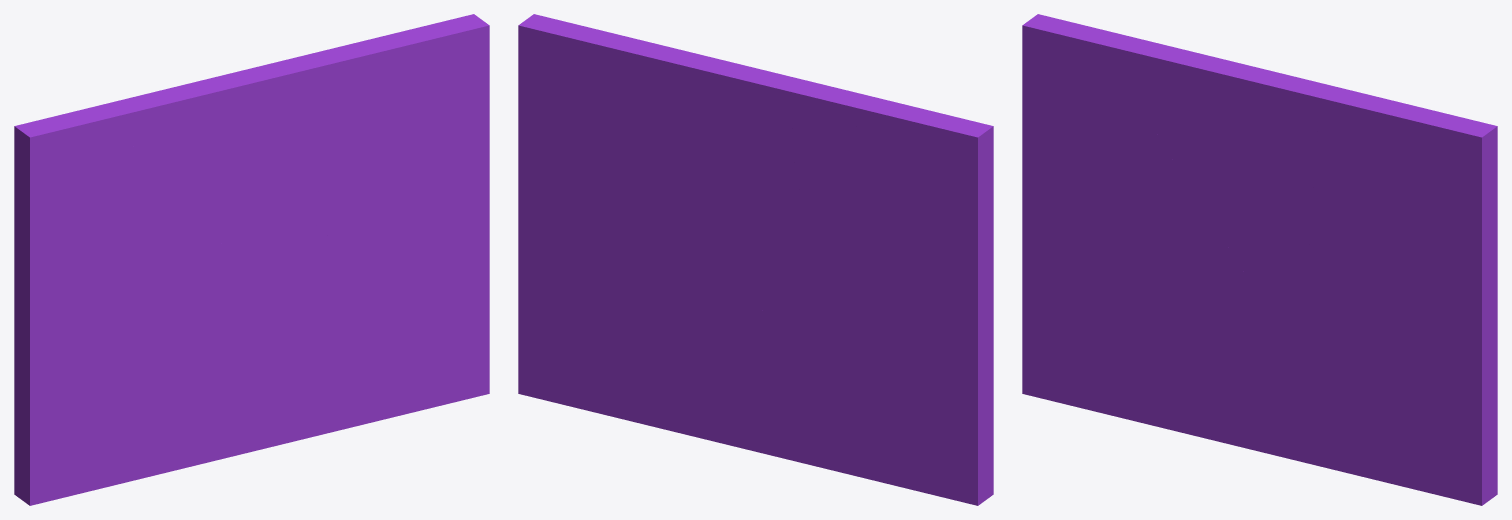
File: Barrier_211_chunks.fbx
3 renders of one model, left to right at view 1: azimuth 30°, elevation 25°; view 2: azimuth 150°, elevation 25°; view 3: azimuth 330°, elevation 25°, orthographic.
Parts seen in each view (by area): view 1: Barrier_211_0, Barrier_211_1, Barrier_211_3, Barrier_211_2; view 2: Barrier_211_0, Barrier_211_3, Barrier_211_1, Barrier_211_2; view 3: Barrier_211_0, Barrier_211_1, Barrier_211_3, Barrier_211_2.
Part boxes in pixels (x1,y1,x2,y2): Barrier_211_0: (14, 100, 251, 505); Barrier_211_1: (179, 184, 489, 469); Barrier_211_3: (204, 14, 489, 238); Barrier_211_2: (108, 65, 327, 277); Barrier_211_0: (748, 107, 993, 505); Barrier_211_3: (518, 14, 796, 274); Barrier_211_1: (518, 203, 821, 467); Barrier_211_2: (698, 54, 915, 191); Barrier_211_0: (1022, 14, 1244, 430); Barrier_211_1: (1172, 266, 1497, 505); Barrier_211_3: (1227, 60, 1497, 303); Barrier_211_2: (1100, 40, 1319, 273).
Size of the model in its own units: 376 by 288 by 22.1.
